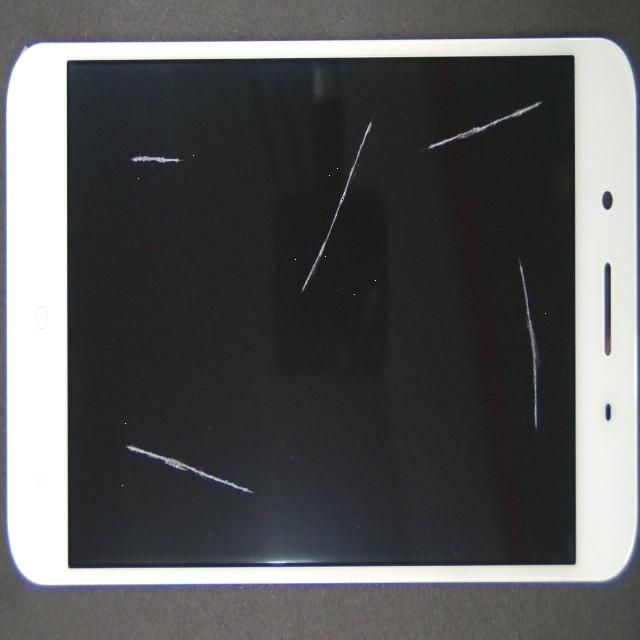scratch: (0, 212, 243, 640), (140, 133, 448, 452), (254, 124, 640, 374), (204, 91, 616, 272), (67, 46, 198, 230)
